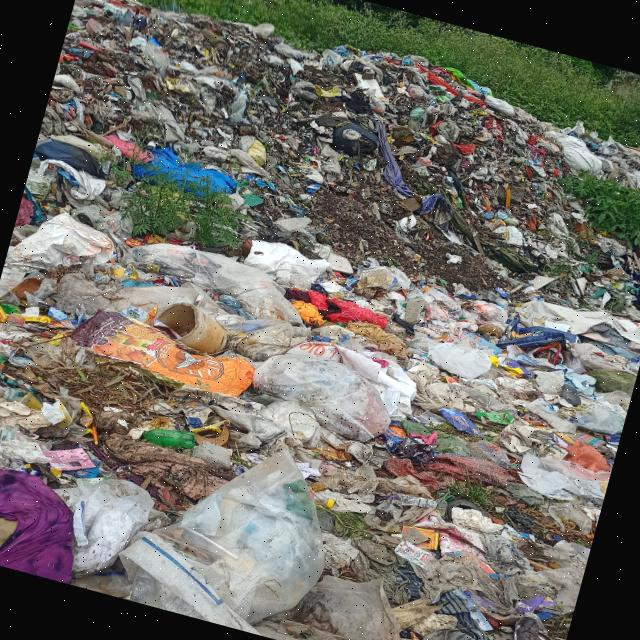garbage: (0, 158, 637, 640), (33, 0, 640, 319)
